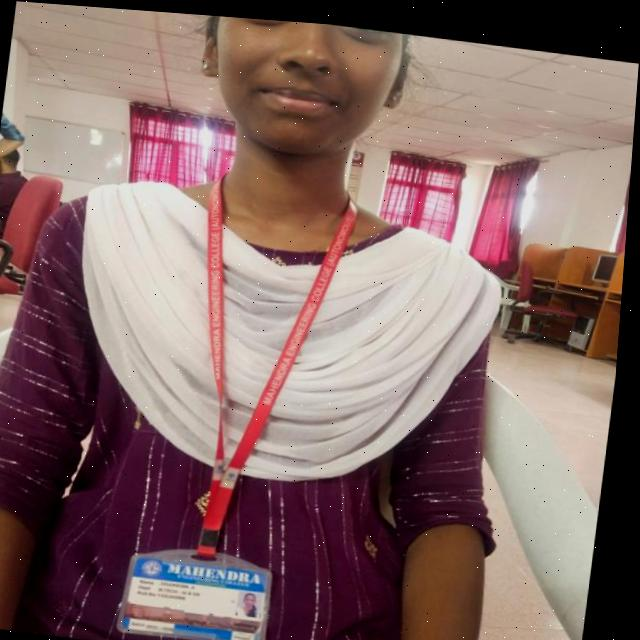id_card: (122, 158, 366, 640)
